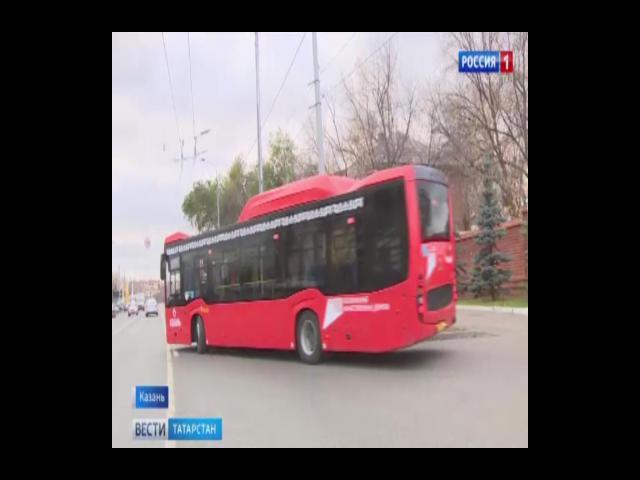bus: (160, 164, 458, 362)
car: (142, 297, 158, 320), (126, 304, 138, 318)
